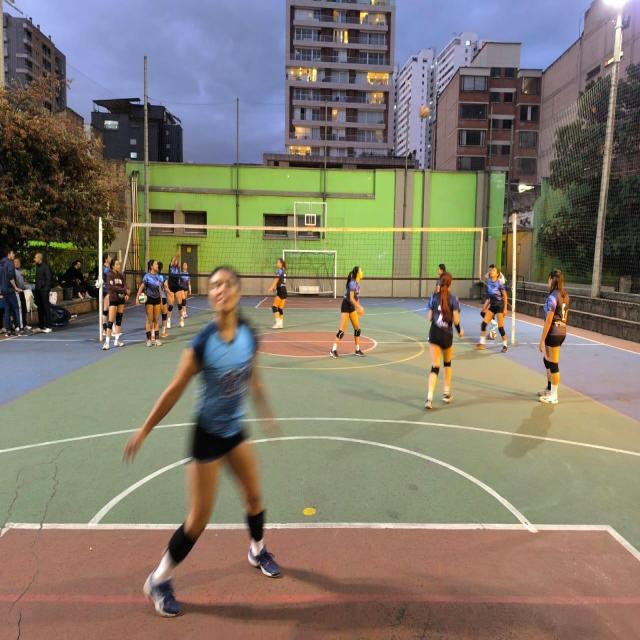volleyball: (419, 104, 430, 119), (138, 292, 148, 304), (489, 330, 497, 340)
